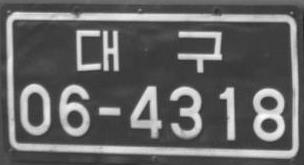0: (20, 82, 51, 135)
1: (214, 86, 246, 141)
3: (169, 85, 202, 139)
4: (130, 84, 162, 138)
6: (58, 84, 89, 137)
8: (252, 86, 285, 142)
대구_D: (75, 29, 222, 75)
